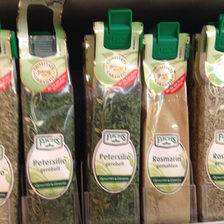spices: (17, 26, 80, 224), (86, 21, 142, 224), (143, 32, 192, 224), (199, 25, 223, 222)
